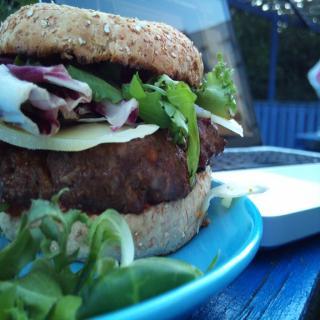Hamburger: (0, 4, 269, 262)
